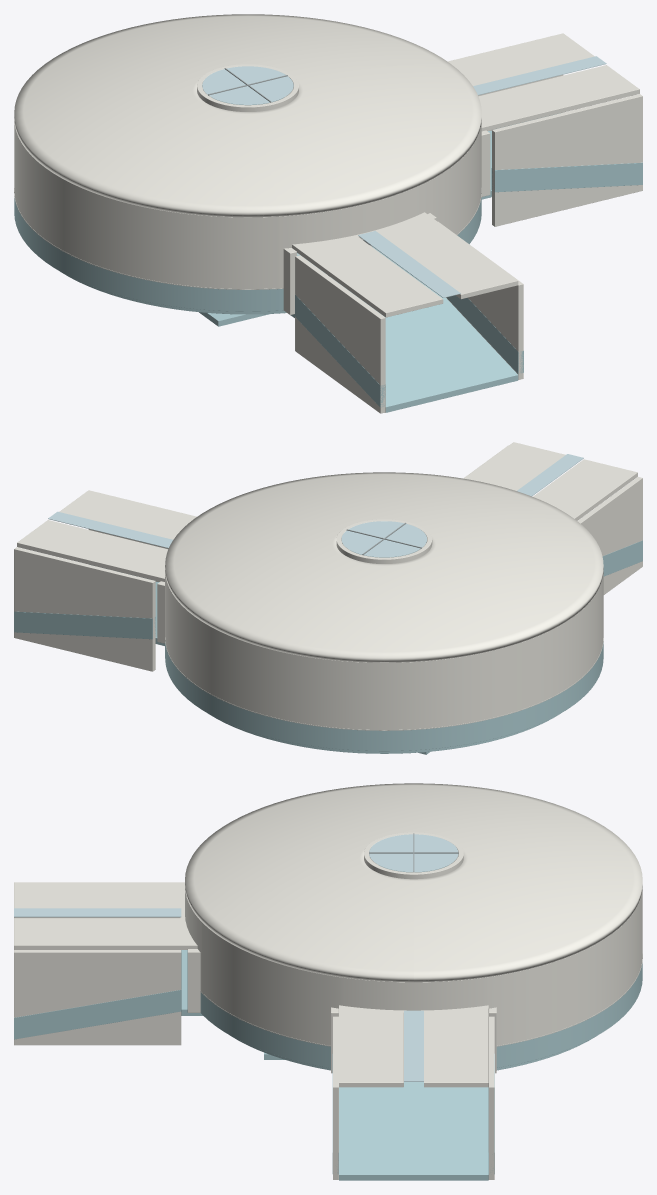
File: formal_bath_continuous_wall.glb
3 views of the same model, one above another, from view 1: azimuth 30°, elevation 25°; view 2: azimuth 150°, elevation 25°; view 3: azimuth 270°, elevation 25° (orthographic). The views are drawn at different scales.
Visible parts, largest first — view 1: Bath_VaultedCeiling, Bath_Wall, Bath_EastVestibule_SideWall1, Bath_SouthVestibule, Bath_SouthVestibule_SideWall-1, Bath_Wainscot, Bath_SouthVestibule_Roof-1, Bath_EastVestibule_Roof1, Bath_SouthVestibule_Roof1, Bath_EastVestibule_Roof-1, Bath_EastVestibule_TileReturn1, Bath_OculusGlass (+10 smaller); view 2: Bath_VaultedCeiling, Bath_Wall, Bath_EastVestibule_SideWall-1, Bath_Wainscot, Bath_EastVestibule_Roof-1, Bath_SouthVestibule_SideWall-1, Bath_SouthVestibule_Roof-1, Bath_EastVestibule_Roof1, Bath_EastVestibule_TileReturn-1, Bath_SouthVestibule_Roof1, Bath_OculusGlass, Bath_EastVestibule_Glazing (+6 smaller); view 3: Bath_VaultedCeiling, Bath_Wall, Bath_EastVestibule, Bath_SouthVestibule_SideWall1, Bath_Wainscot, Bath_SouthVestibule_Roof1, Bath_EastVestibule_Roof-1, Bath_EastVestibule_Roof1, Bath_SouthVestibule_Roof-1, Bath_SouthVestibule_TileReturn1, Bath_OculusGlass, Bath_SouthVestibule_Glazing (+6 smaller).
Part boxes in pixels (<box>): Bath_VaultedCeiling: <box>14,14,481,217</box>; Bath_Wall: <box>14,91,481,288</box>; Bath_EastVestibule_SideWall1: <box>492,94,642,226</box>; Bath_SouthVestibule: <box>363,285,518,412</box>; Bath_SouthVestibule_SideWall-1: <box>295,255,385,413</box>; Bath_Wainscot: <box>14,97,481,311</box>; Bath_SouthVestibule_Roof-1: <box>300,236,443,317</box>; Bath_EastVestibule_Roof1: <box>478,65,639,129</box>; Bath_SouthVestibule_Roof1: <box>377,218,518,299</box>; Bath_EastVestibule_Roof-1: <box>447,33,594,85</box>; Bath_EastVestibule_TileReturn1: <box>491,162,642,192</box>; Bath_OculusGlass: <box>202,66,293,104</box>; Bath_VaultedCeiling: <box>165,472,603,662</box>; Bath_Wall: <box>165,544,603,729</box>; Bath_EastVestibule_SideWall-1: <box>14,547,155,671</box>; Bath_Wainscot: <box>165,550,603,751</box>; Bath_EastVestibule_Roof-1: <box>17,520,167,580</box>; Bath_SouthVestibule_SideWall-1: <box>577,477,642,594</box>; Bath_SouthVestibule_Roof-1: <box>533,459,637,520</box>; Bath_EastVestibule_Roof1: <box>59,490,196,539</box>; Bath_EastVestibule_TileReturn-1: <box>14,611,155,639</box>; Bath_SouthVestibule_Roof1: <box>464,442,565,490</box>; Bath_OculusGlass: <box>341,521,427,557</box>; Bath_EastVestibule_Glazing: <box>48,511,172,548</box>; Bath_VaultedCeiling: <box>185,783,642,982</box>; Bath_Wall: <box>185,858,642,1045</box>; Bath_EastVestibule: <box>339,1082,488,1180</box>; Bath_SouthVestibule_SideWall1: <box>14,950,181,1045</box>; Bath_Wainscot: <box>200,865,642,1067</box>; Bath_SouthVestibule_Roof1: <box>14,918,181,949</box>; Bath_EastVestibule_Roof-1: <box>424,1012,488,1087</box>; Bath_EastVestibule_Roof1: <box>339,1012,403,1087</box>; Bath_SouthVestibule_Roof-1: <box>14,882,181,908</box>; Bath_SouthVestibule_TileReturn1: <box>14,990,181,1039</box>; Bath_OculusGlass: <box>369,834,458,871</box>; Bath_SouthVestibule_Glazing: <box>14,908,181,917</box>.
Size of what is drawn, in the model's own units: 25.17 by 7.03 by 25.17.
